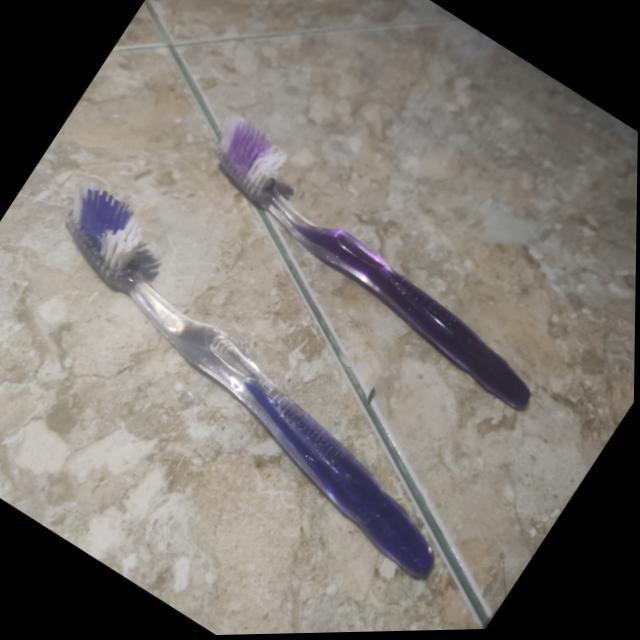toothbrush: (64, 183, 435, 591), (212, 120, 538, 428)
